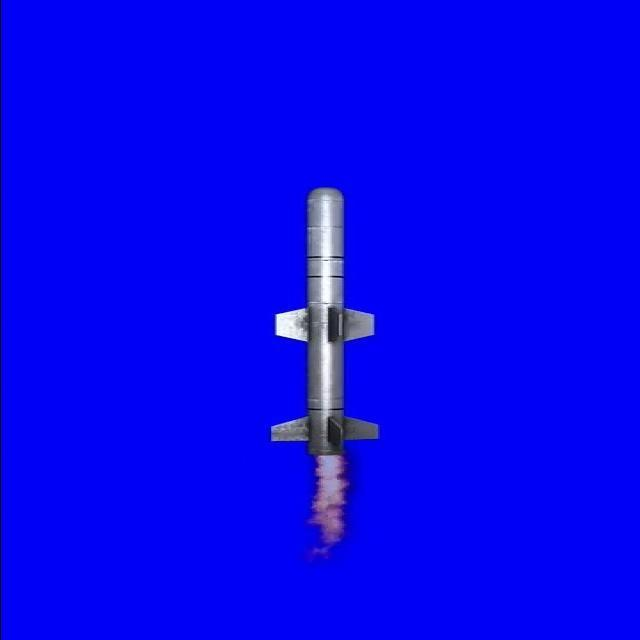Missile: (260, 183, 384, 453)
